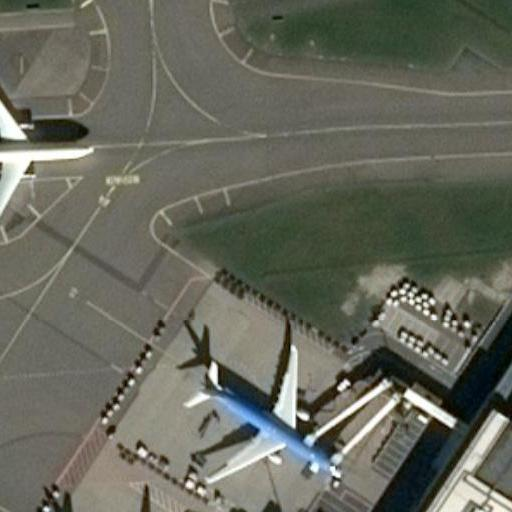Aircraft: (177, 330, 342, 488), (0, 62, 94, 233), (30, 504, 205, 512)
